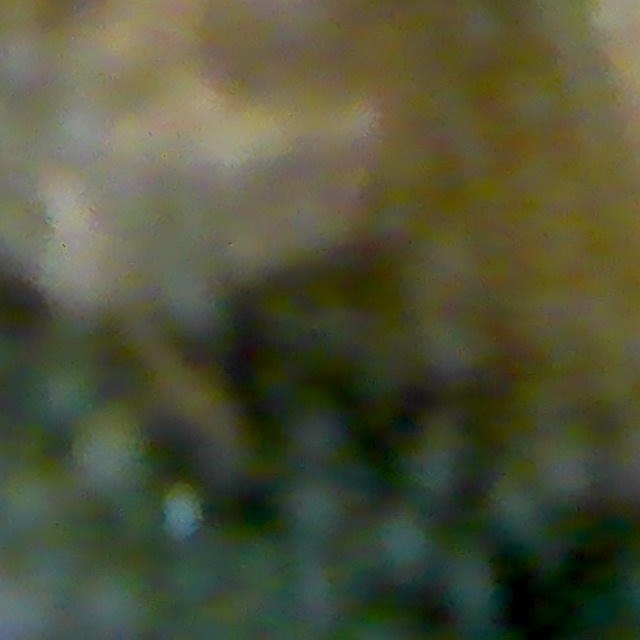SeaGrape: (70, 405, 150, 495), (76, 560, 159, 639), (27, 354, 99, 425), (366, 510, 435, 583), (282, 475, 349, 542), (440, 551, 500, 619)
